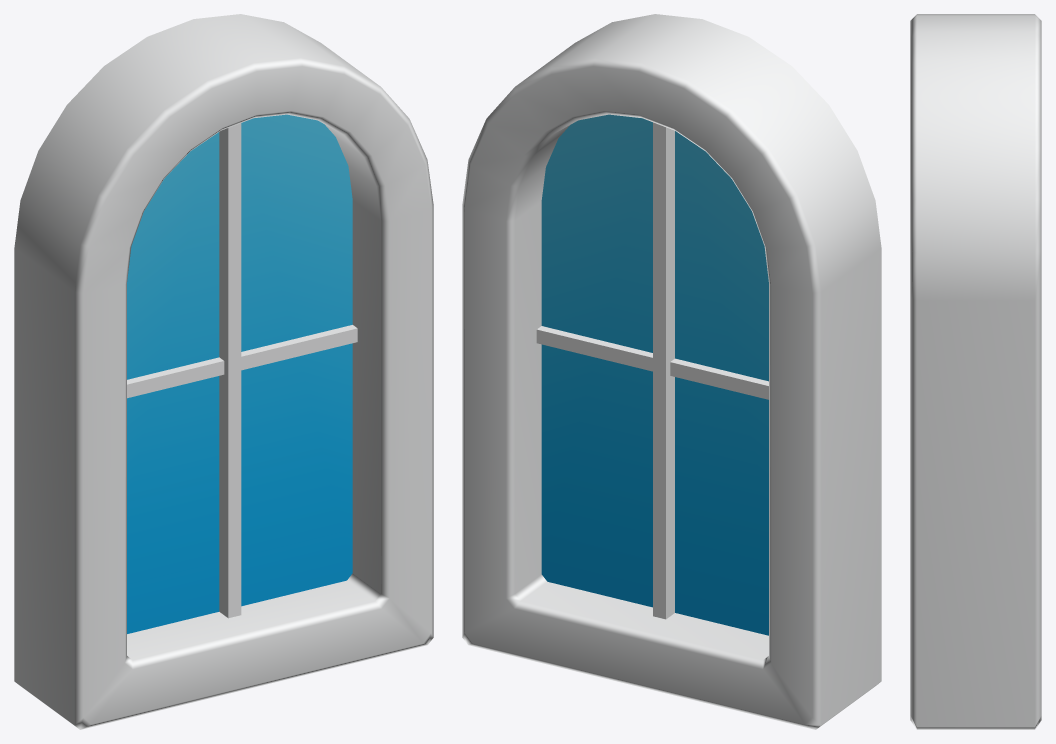
The model's file is Window_White_15.glb.
3 renders of one model, left to right at view 1: azimuth 30°, elevation 25°; view 2: azimuth 150°, elevation 25°; view 3: azimuth 270°, elevation 25°, orthographic.
Visible parts, largest first — view 1: Window_White_15; view 2: Window_White_15; view 3: Window_White_15.
Part boxes in pixels (box(x1,y1,x2,y2)): Window_White_15: box(14, 14, 433, 729); Window_White_15: box(462, 14, 881, 729); Window_White_15: box(910, 14, 1041, 729).
Bounding box in the file's own units: 1.24 × 2.07 × 0.4.
Materials: 2 (2 with a texture image).
